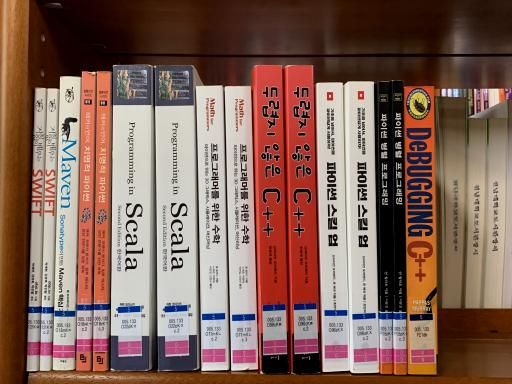book-spine: (155, 66, 197, 371), (111, 65, 152, 371), (287, 66, 320, 374), (257, 65, 289, 374), (405, 86, 438, 375), (196, 86, 229, 371), (225, 86, 258, 370), (318, 83, 350, 372), (349, 81, 379, 373), (52, 76, 81, 370), (76, 71, 95, 370), (26, 88, 46, 371), (39, 88, 57, 371), (93, 71, 110, 370), (393, 81, 407, 375), (379, 81, 393, 374)
